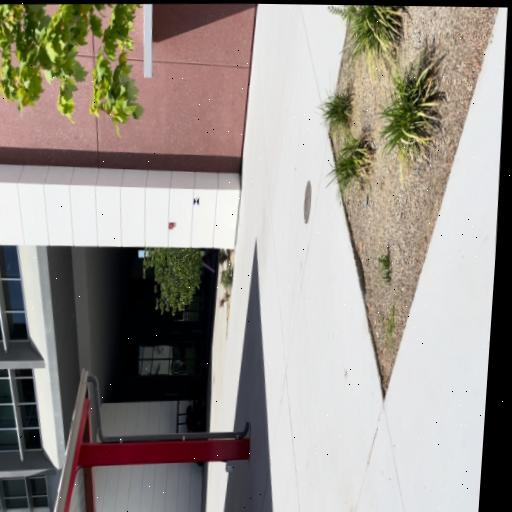target9: (193, 197, 200, 207)
